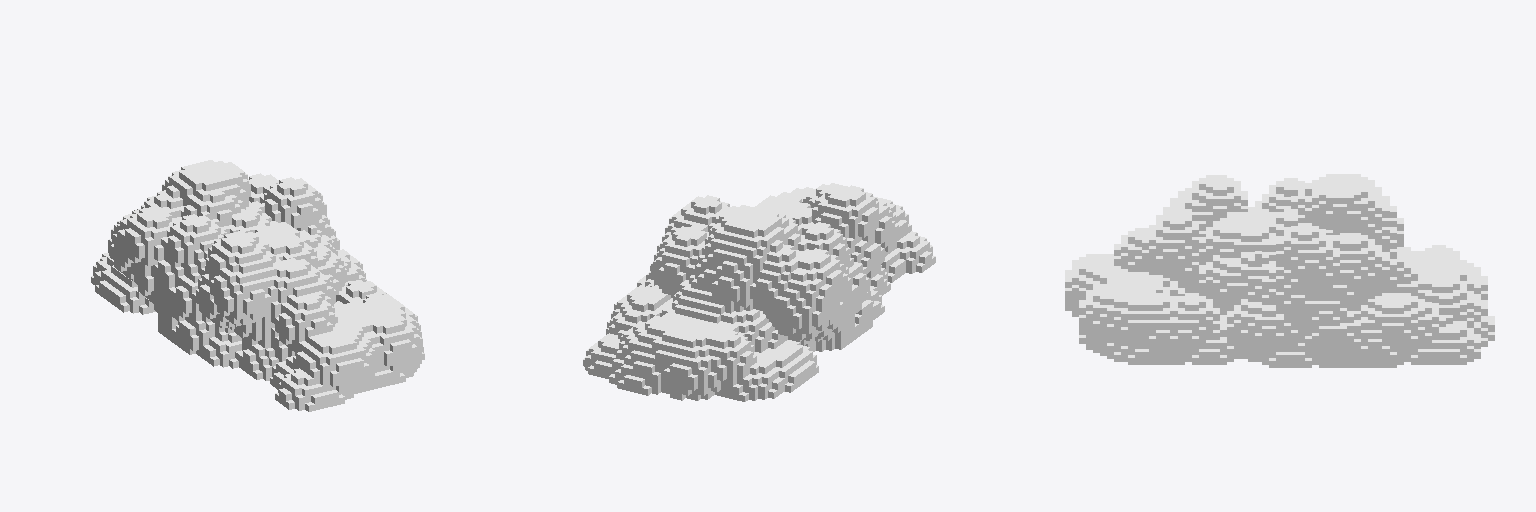
The model's file is rock-big-2.obj.
3 views of the same model, side by side, from view 1: azimuth 30°, elevation 25°; view 2: azimuth 150°, elevation 25°; view 3: azimuth 270°, elevation 25° (orthographic).
Parts seen in each view (by area): view 1: object 1; view 2: object 1; view 3: object 1.
Part boxes in pixels (bbox=[...]): object 1: bbox=[91, 160, 424, 411]; object 1: bbox=[583, 183, 935, 401]; object 1: bbox=[1065, 174, 1494, 367].
Size of the model in its own units: 3.2 by 2 by 6.1.